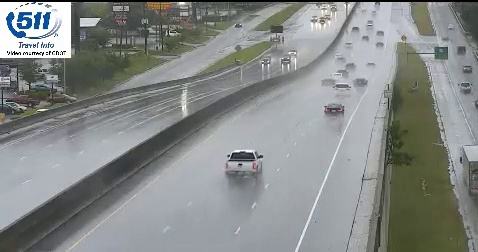car: (226, 149, 261, 175), (325, 103, 344, 117)
